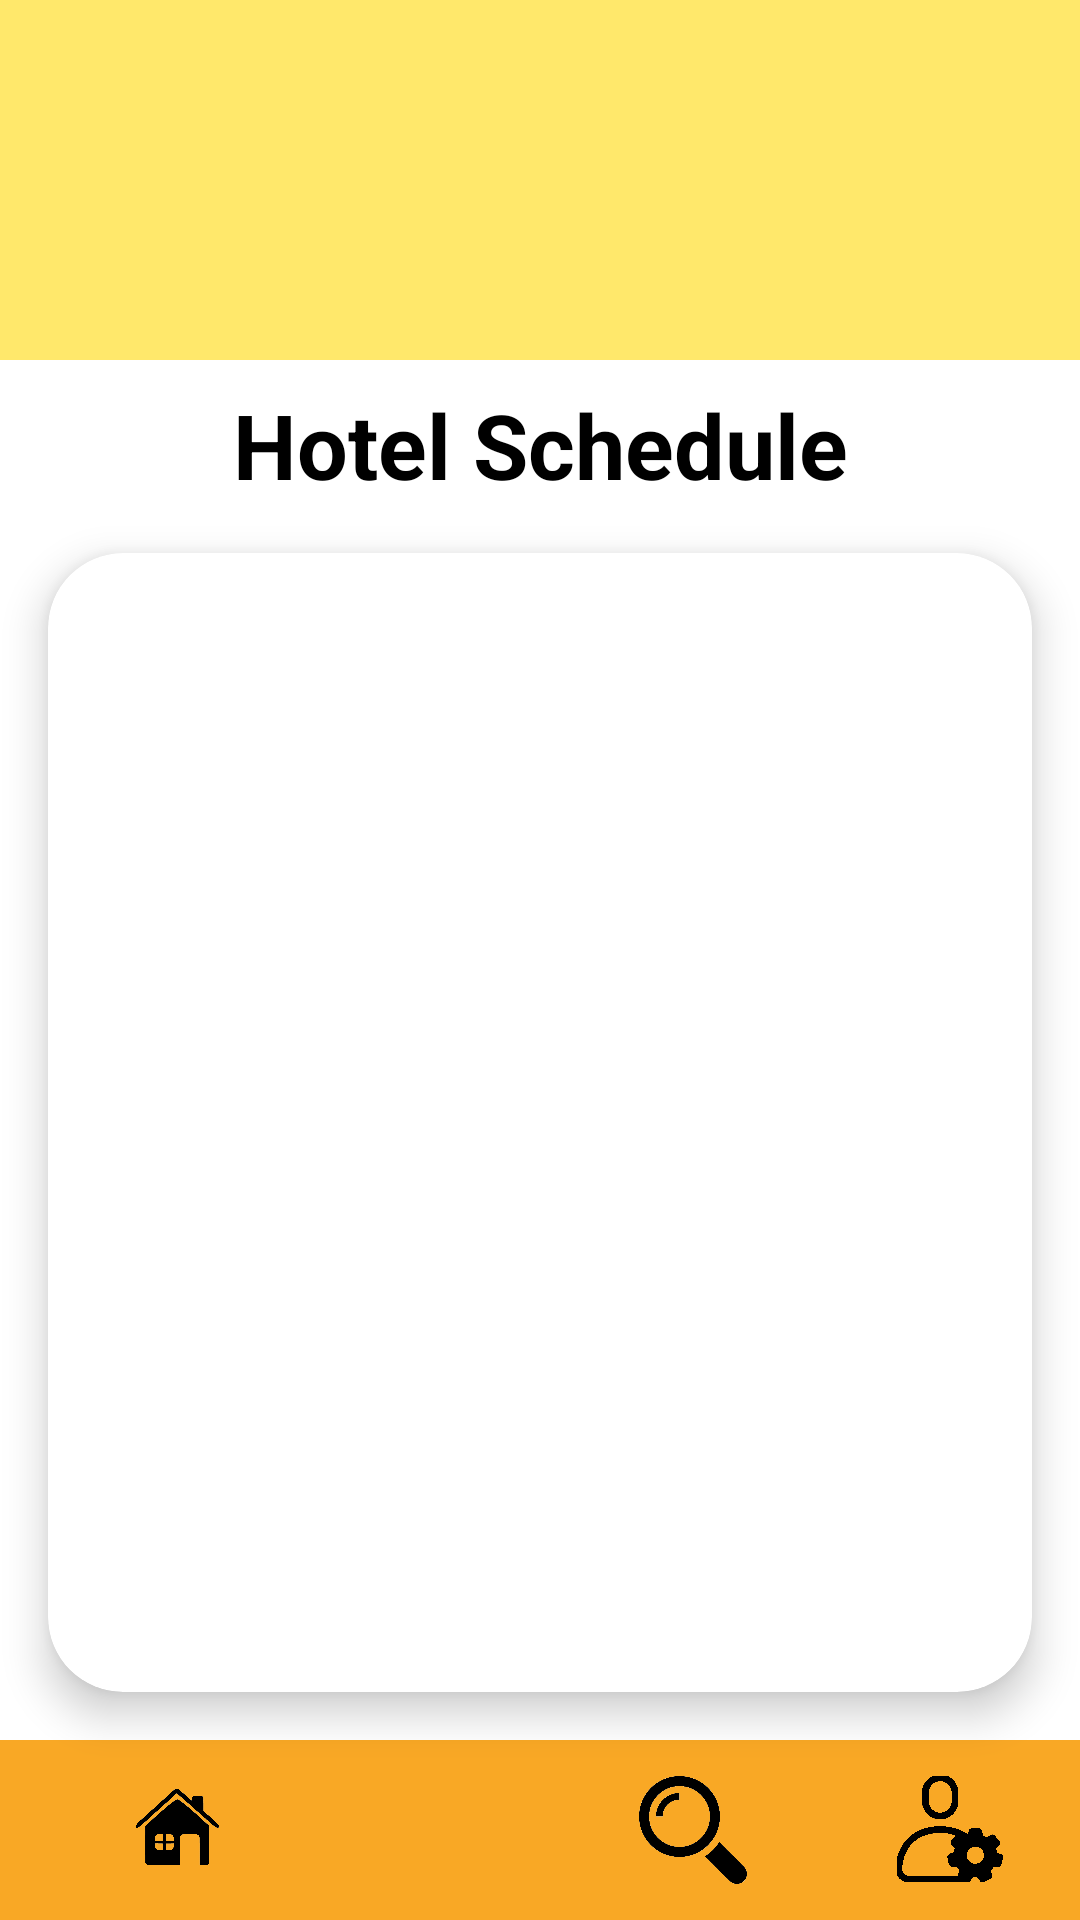

Where icons sit on this 1080px x 1920px app screen, as [x1, y1, x2, y2]:
acc setting: [897, 1776, 1003, 1882]
home: [136, 1789, 219, 1865]
search: [639, 1776, 747, 1884]
